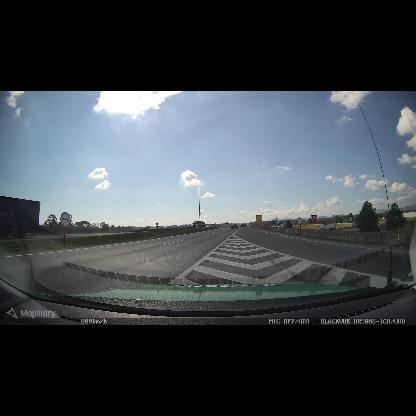O-MP: (146, 227, 149, 236)
R-2: (310, 215, 317, 223)
R-24a: (60, 212, 71, 228), (297, 217, 302, 225)
